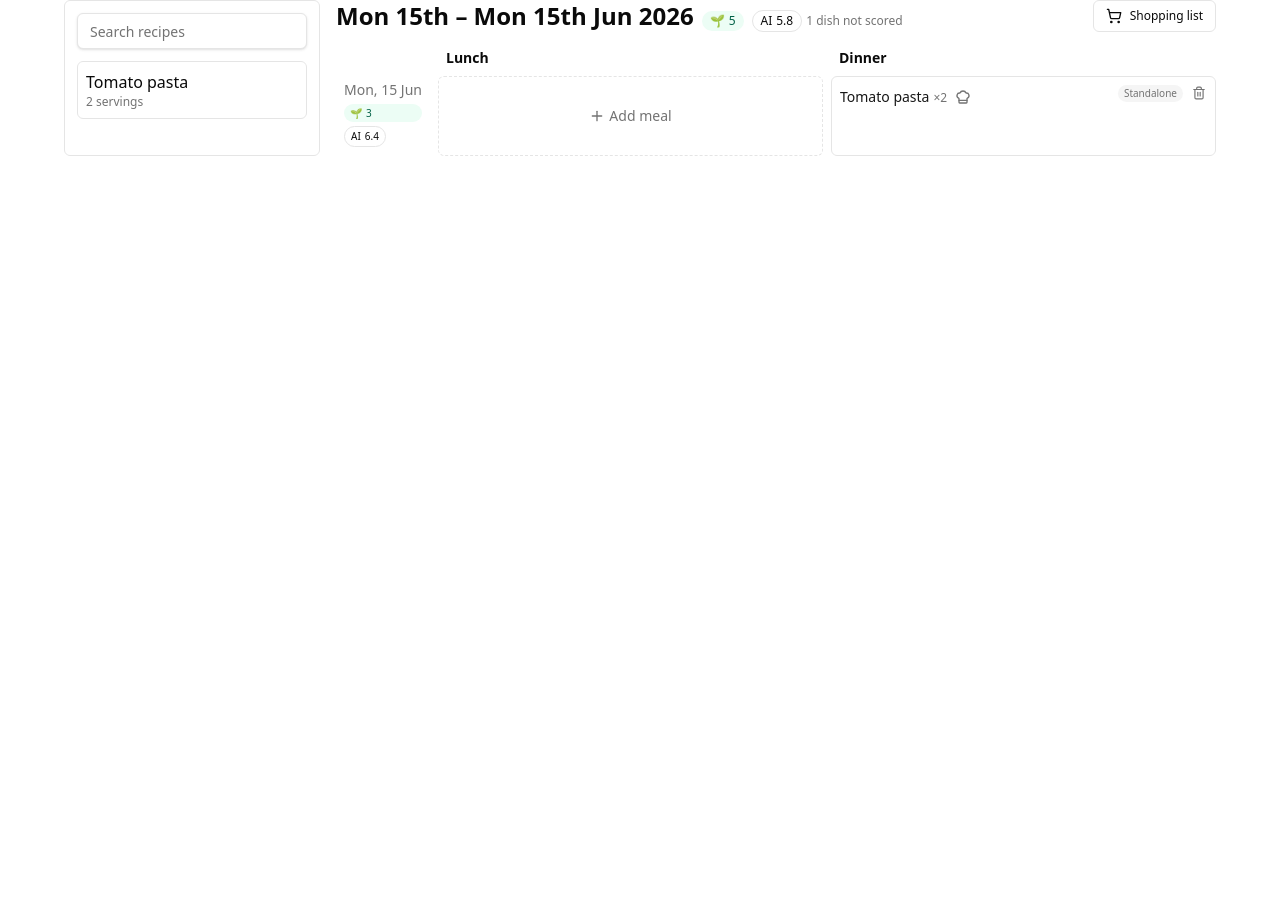
Test: PlannerPage › does not assign on tap — a bank row then an empty slot opens the editor
Click the button "Tomato pasta 2 servings": (192, 90) [77,61,307,119]
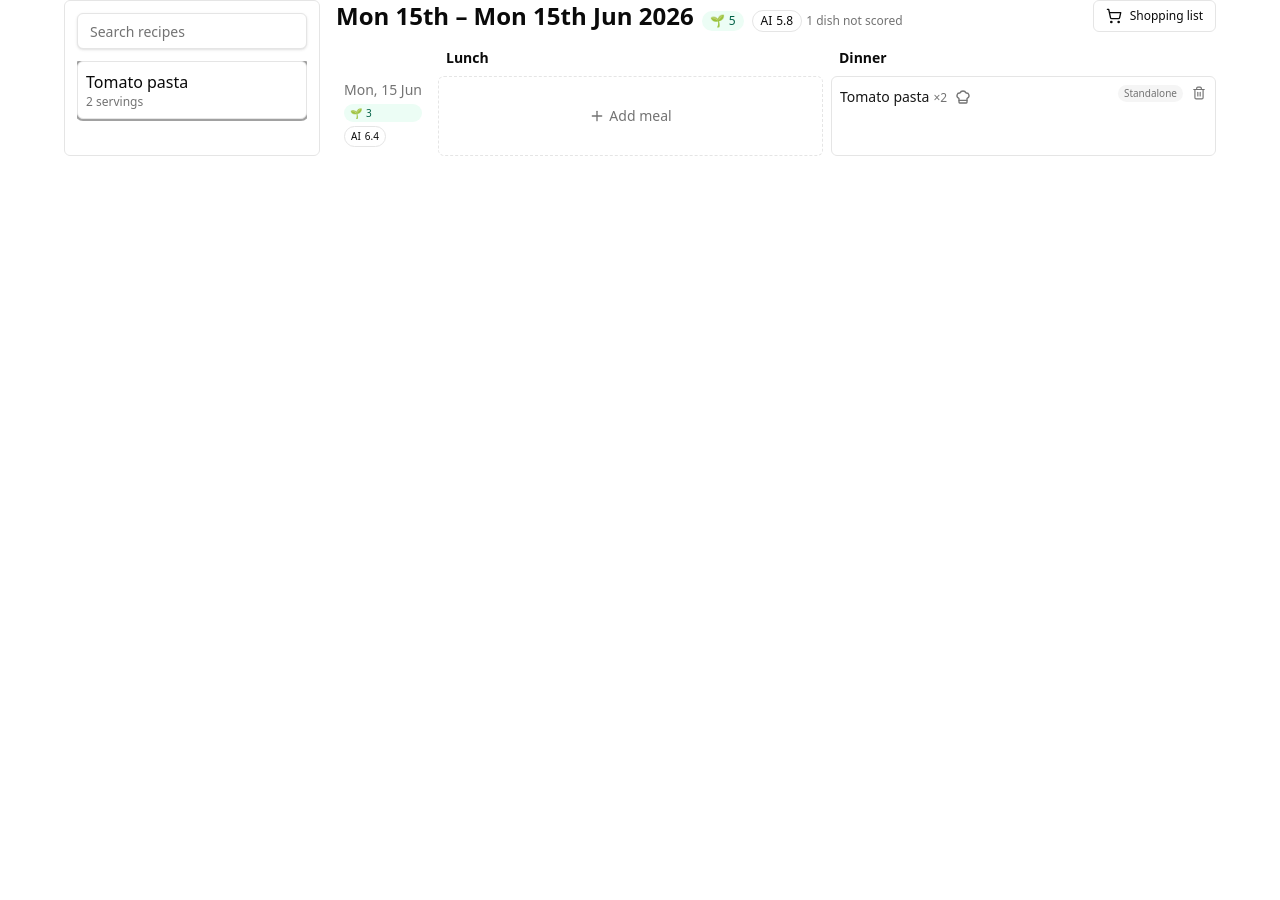
Click the button named "Lunch on 2026-06-15: empty slot": (630, 116) [439,77,822,155]
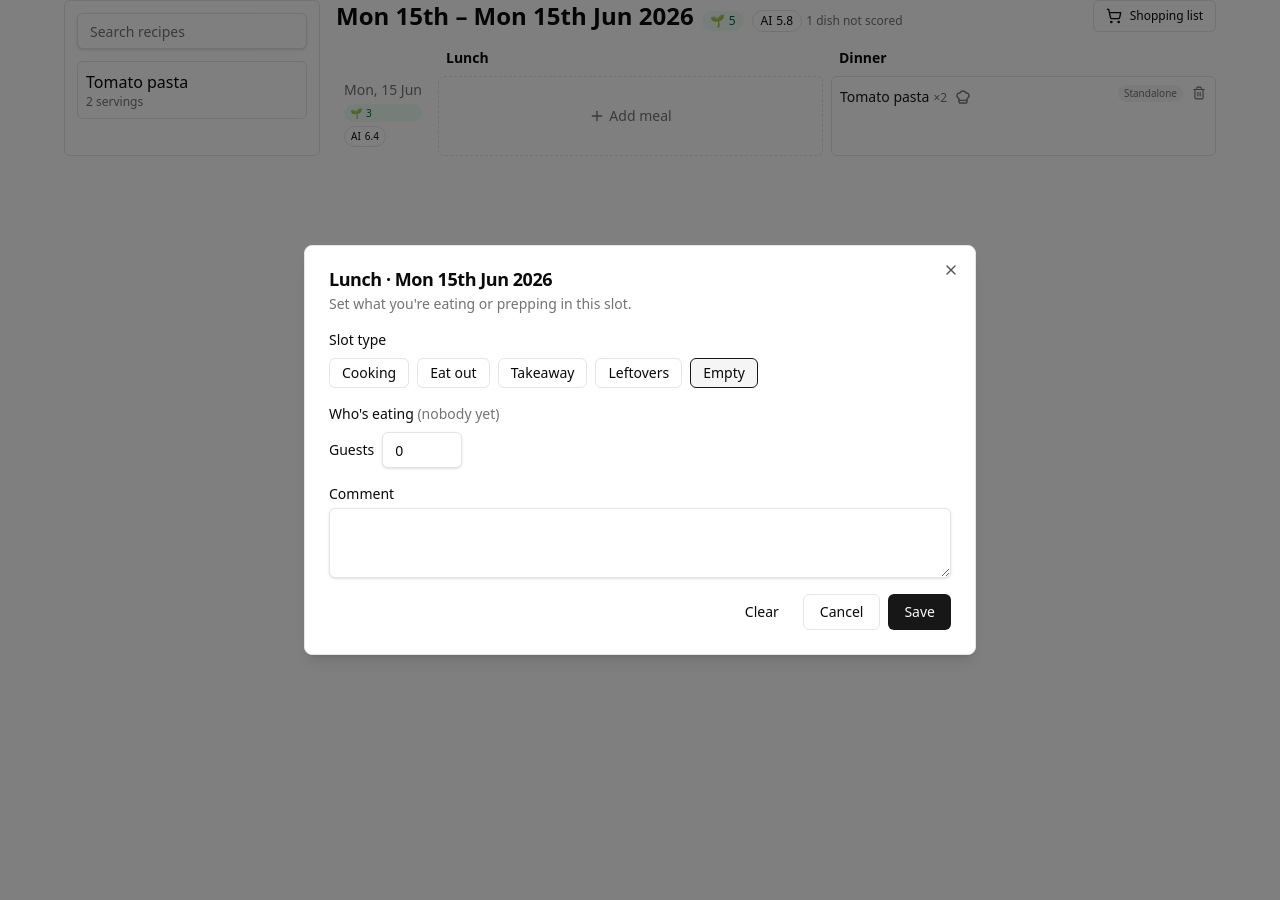
Expected: the heading "Lunch · Mon 15th Jun 2026" is shown, [329,267,552,291]
